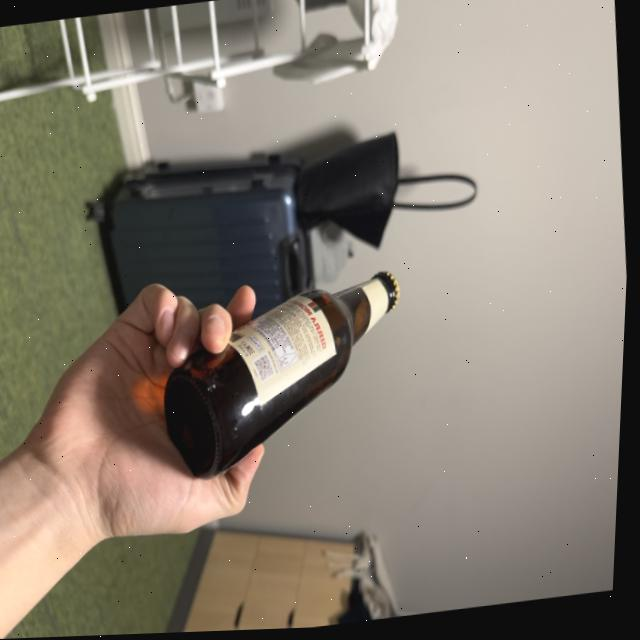beer: (148, 267, 422, 490)
